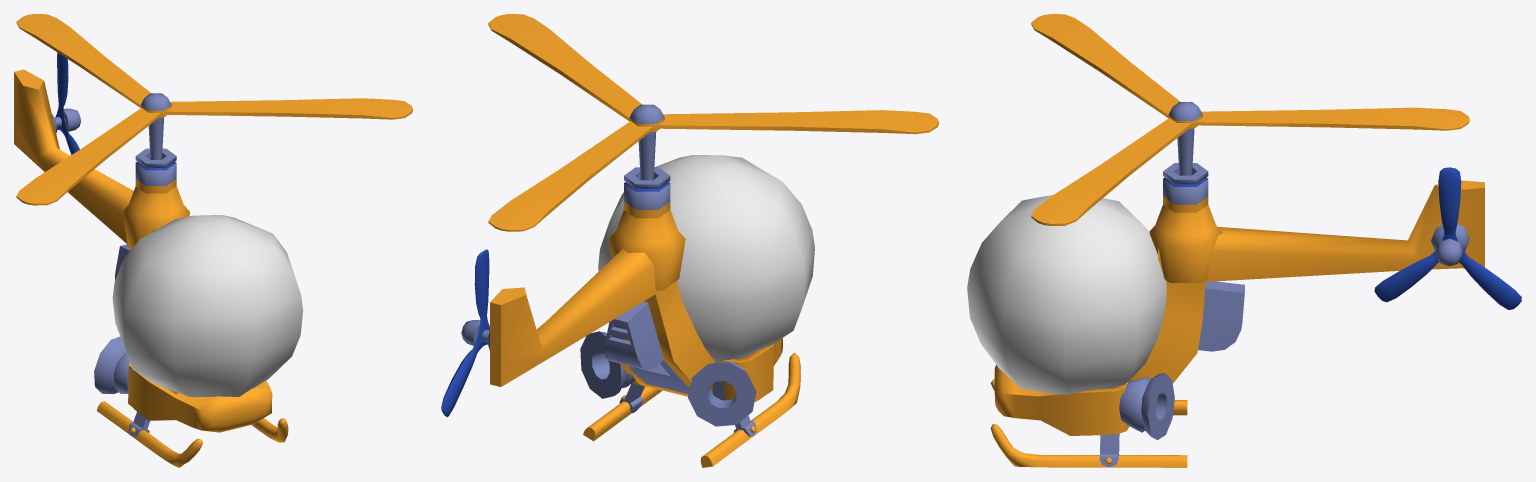
File: helicopter.fbx
3 renders of one model, left to right at view 1: azimuth 30°, elevation 25°; view 2: azimuth 150°, elevation 25°; view 3: azimuth 270°, elevation 25°, orthographic. The views are drawn at different scales.
Parts seen in each view (by area): view 1: helicopter; view 2: helicopter; view 3: helicopter.
Part boxes in pixels (box(x1,y1,x2,y2)): helicopter: box(14, 14, 412, 467); helicopter: box(441, 14, 938, 467); helicopter: box(967, 14, 1521, 467).
Bounding box in the file's own units: 178 × 134 × 199.
